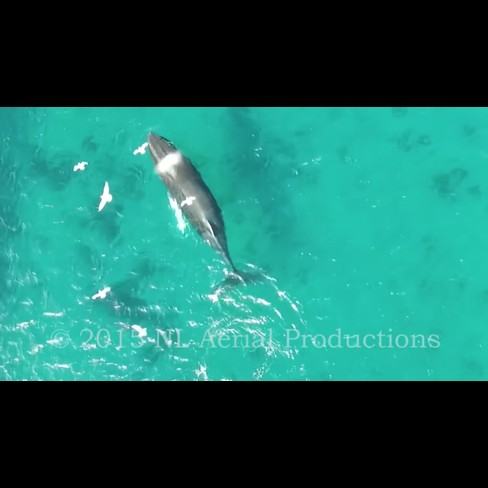hump: (139, 126, 269, 304)
